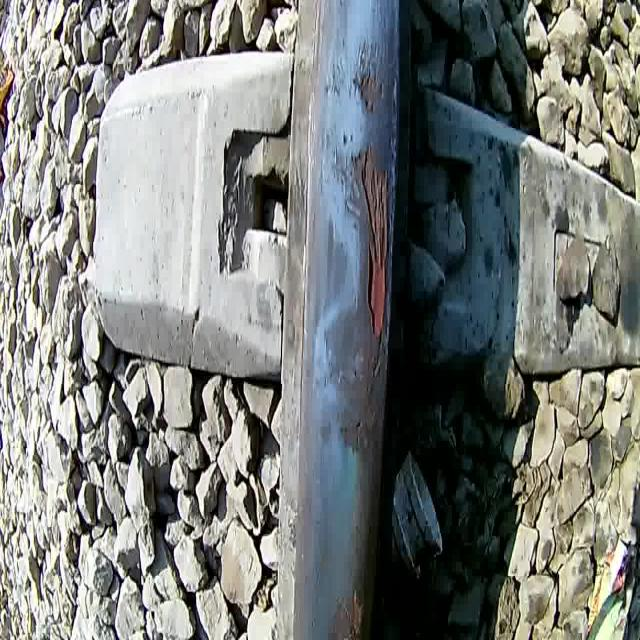Cracks: (371, 322, 384, 388)
Spallings: (357, 133, 390, 343), (347, 34, 390, 120), (334, 580, 370, 640)
Squats: (316, 126, 398, 481)
